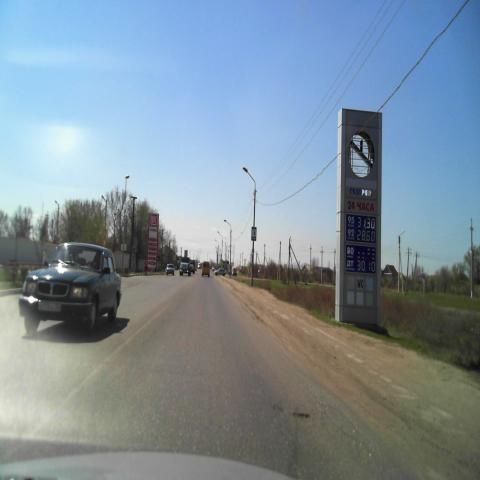7_3: (251, 227, 256, 241)
